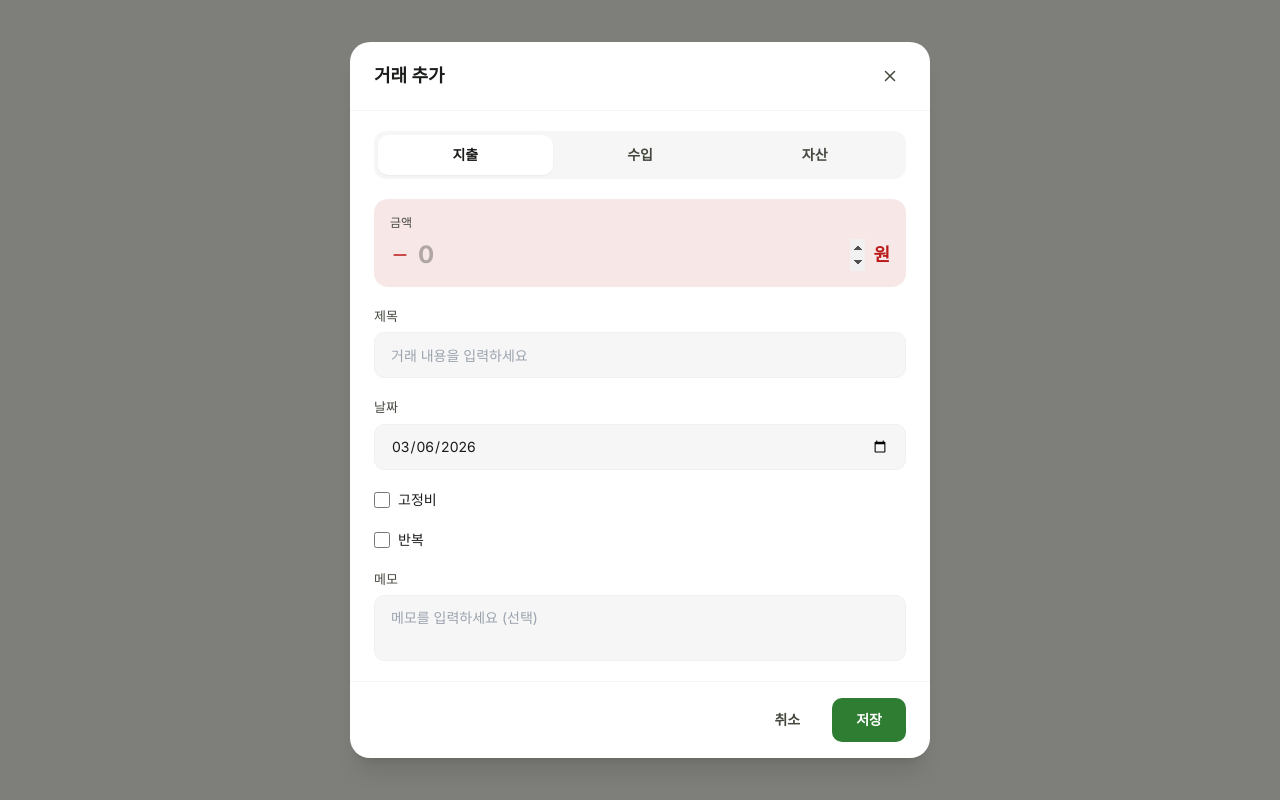
Test case: AddTransactionDialog › 반복 설정 › 종료일 입력 필드가 표시되어야 한다
Click the checkbox labelled "반복" at (382, 540), box [374,532,390,548]
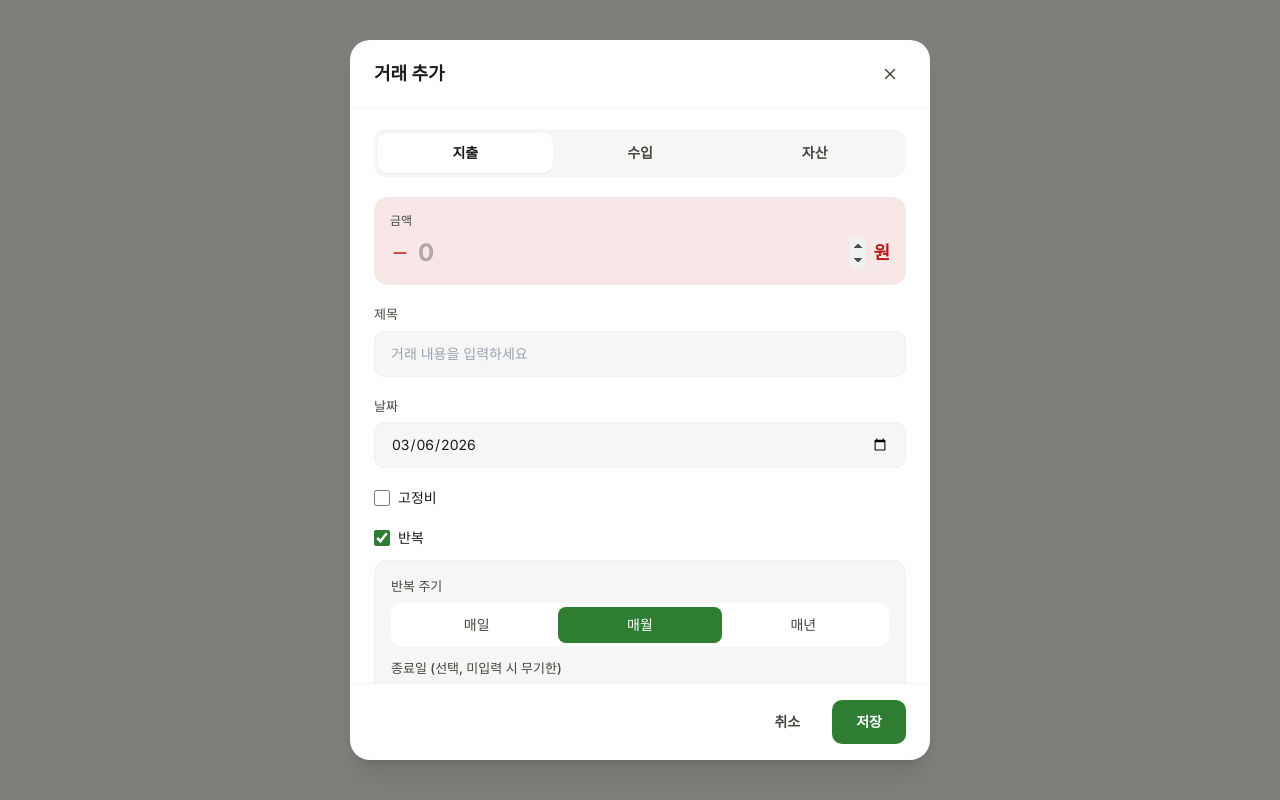
expect the text "종료일 (선택, 미입력 시 무기한)" is shown: met, box [391,660,562,676]
